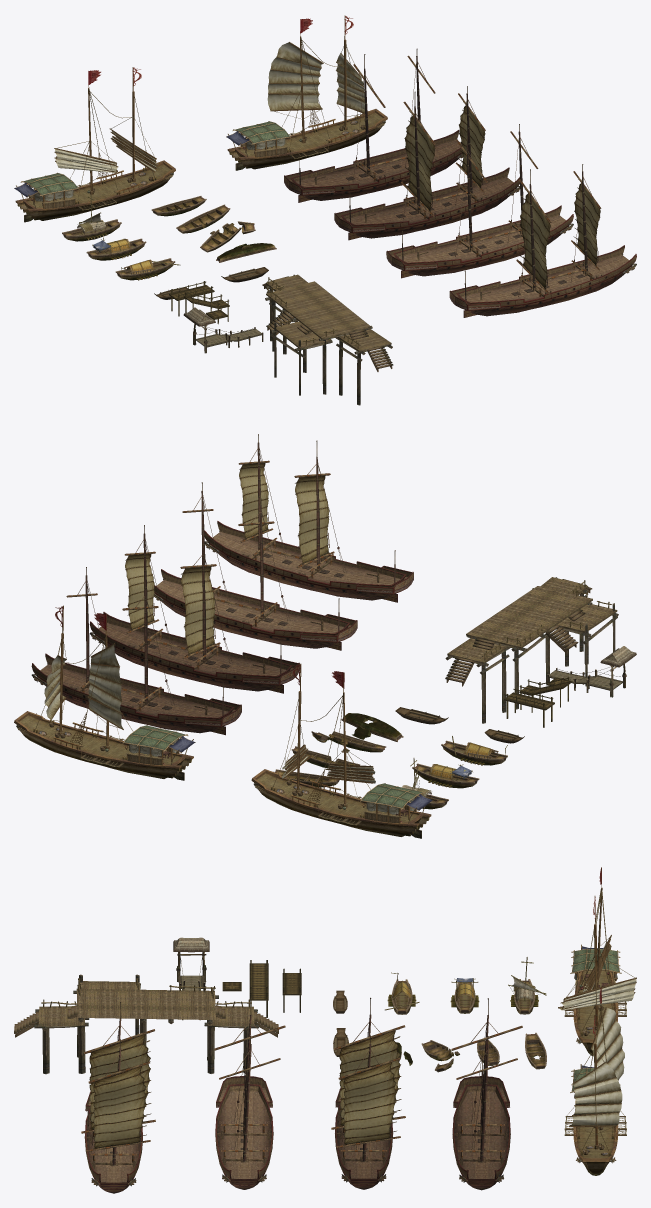
The model's file is 古船渔船.fbx.
3 renders of one model, top to bottom at view 1: azimuth 30°, elevation 25°; view 2: azimuth 150°, elevation 25°; view 3: azimuth 270°, elevation 25°, orthographic. The views are drawn at different scales.
Visible parts, largest first — view 1: Component51, 多边形_7, 多边形_2, 多边形, 多边形_5, Component36, Component37, Component15, 多边形_6, Component18, Component13, 多边形_3 (+11 smaller); view 2: Component51, 多边形_7, 多边形_2, 多边形, 多边形_5, Component37, Component15, Component36, Component13, 多边形_6, Component18, 多边形_4 (+9 smaller); view 3: Component51, 多边形_5, 多边形, Component13, 多边形_6, Component36, Component18, 多边形_7, 多边形_2, Component37, Component15, 多边形_4 (+14 smaller).
Boxes of the visible parts, x1,y1,x2,y2 form: Component51: (262, 274, 393, 405); 多边形_7: (449, 164, 636, 317); 多边形_2: (334, 86, 520, 240); 多边形: (386, 124, 573, 278); 多边形_5: (284, 48, 463, 202); Component36: (240, 15, 365, 157); Component37: (227, 109, 387, 170); Component15: (15, 160, 175, 222); 多边形_6: (519, 179, 600, 288); Component18: (28, 67, 157, 209); Component13: (404, 102, 485, 211); 多边形_3: (226, 16, 364, 157); Component51: (445, 577, 618, 723); 多边形_7: (204, 434, 413, 602); 多边形_2: (89, 525, 299, 693); 多边形: (153, 482, 357, 650); 多边形_5: (31, 567, 241, 735); Component37: (14, 711, 193, 780); Component15: (251, 769, 431, 838); Component36: (33, 605, 179, 765); Component13: (125, 554, 215, 656); 多边形_6: (239, 463, 329, 565); Component18: (270, 663, 418, 823); 多边形_4: (275, 664, 433, 823); Component51: (14, 974, 278, 1074); 多边形_5: (452, 998, 510, 1190); 多边形: (215, 998, 273, 1189); Component13: (337, 1029, 401, 1145); 多边形_6: (87, 1032, 151, 1148); Component36: (566, 986, 625, 1156); Component18: (558, 867, 636, 1036); 多边形_7: (84, 1001, 142, 1193); 多边形_2: (335, 997, 393, 1189); Component37: (564, 1100, 626, 1175); Component15: (564, 970, 626, 1056); 多边形_4: (570, 868, 621, 1035).
Bounding box in the file's own units: 3354 × 1310 × 3871.
32 materials, 32 textured.
